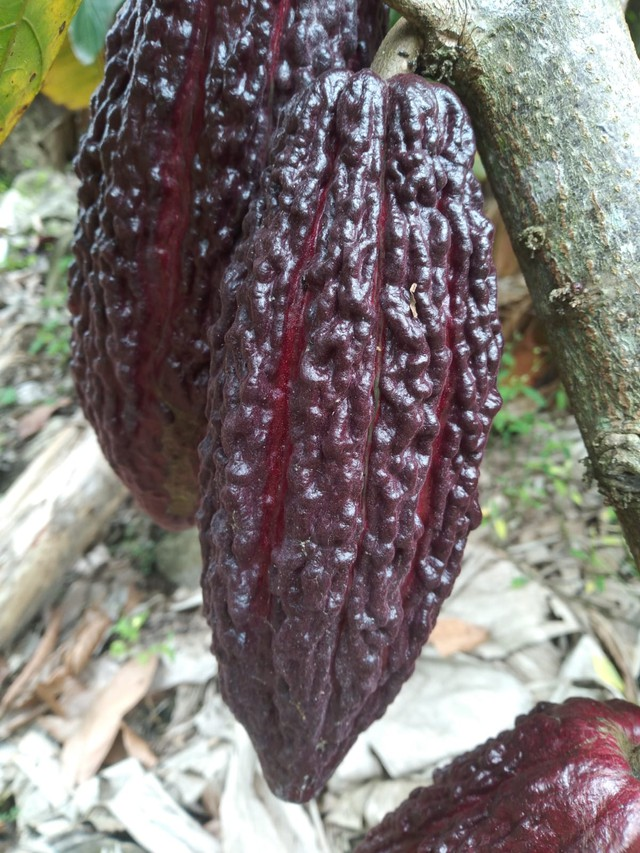Health: (193, 26, 516, 820)
